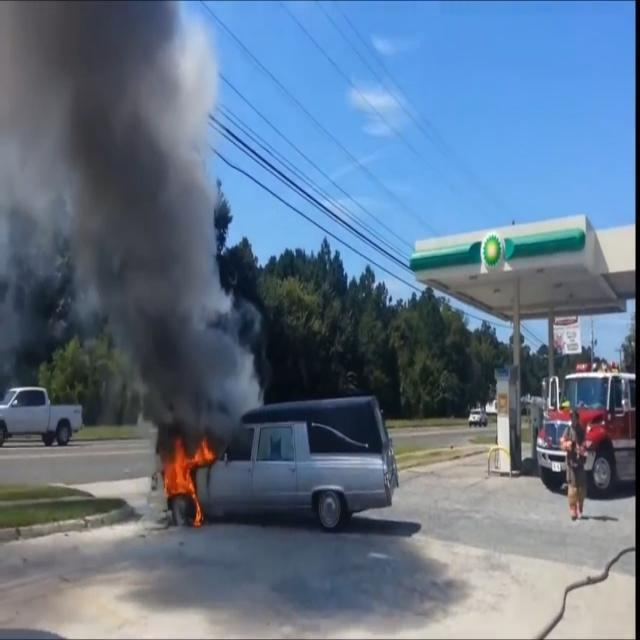fire: (160, 432, 220, 534)
